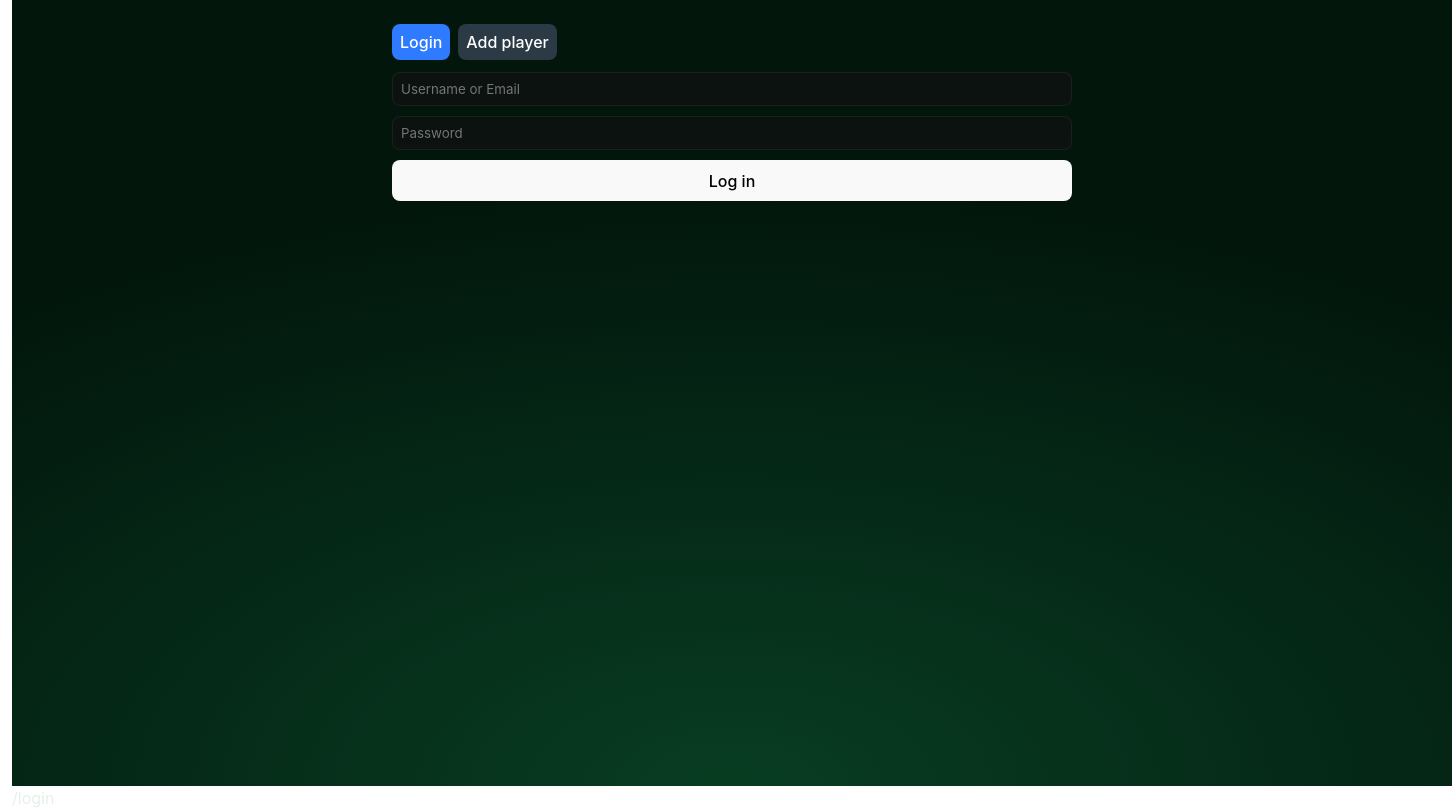
Test case: Login › shows a failed signup inline
The image size is (1452, 810).
Click the button "Add player" at coordinates (508, 42), box [458, 24, 557, 60]
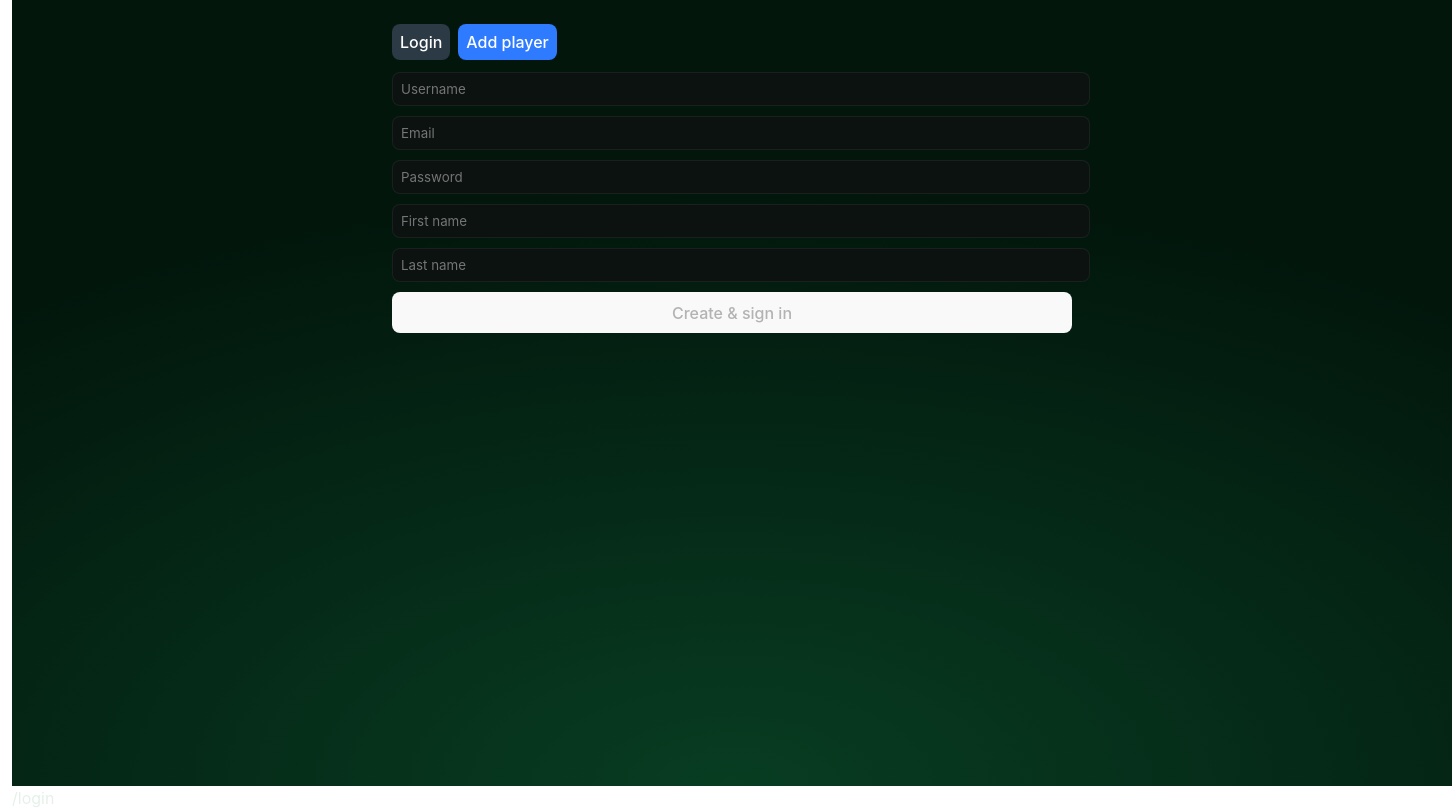
Type "newbie" into the field with placeholder "Username" at coordinates (741, 89), box [392, 72, 1090, 106]
Type "n@example.com" into the field with placeholder "Email" at coordinates (741, 133), box [392, 116, 1090, 150]
Type "secret1" into the password field with placeholder "Password" at coordinates (741, 177), box [392, 160, 1090, 194]
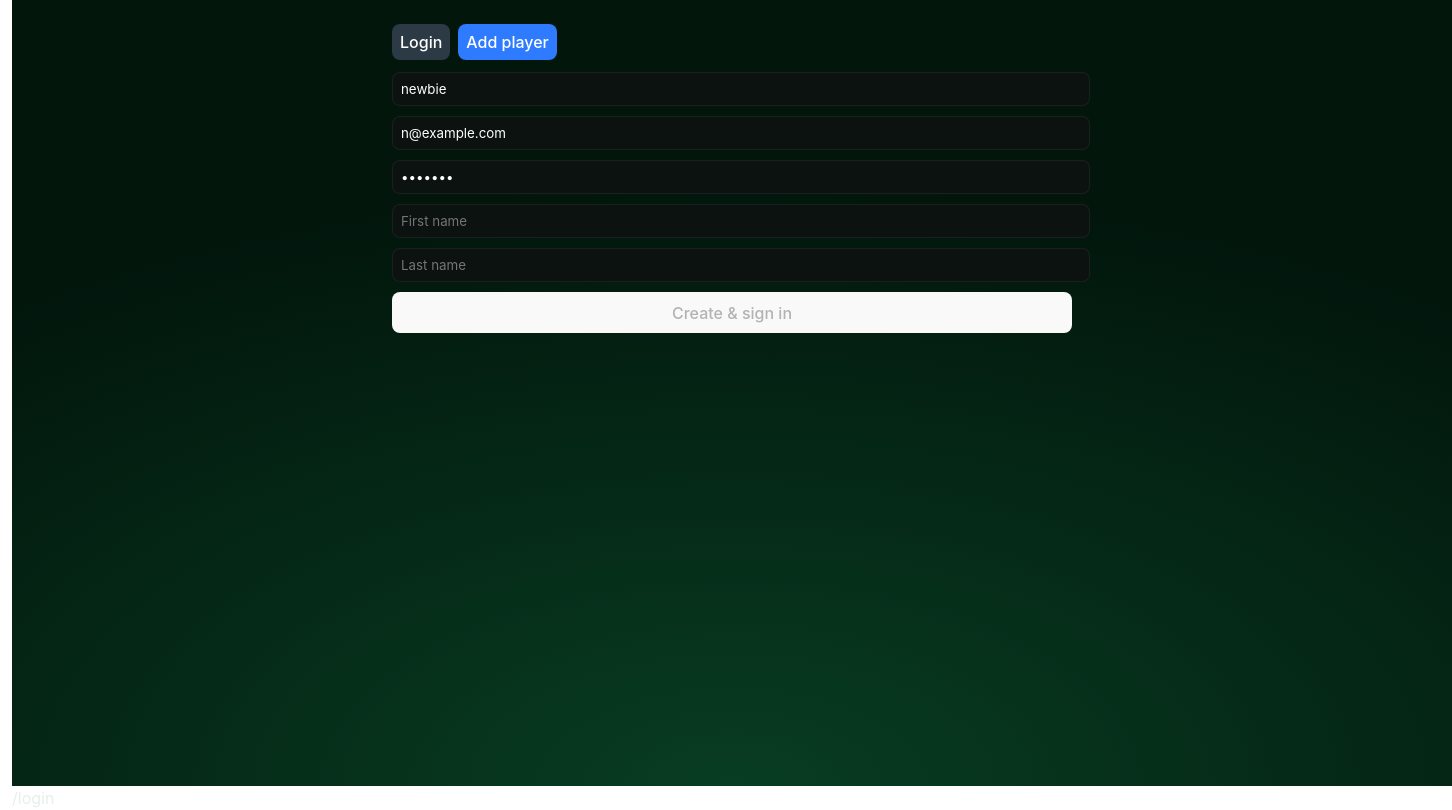
Type "New" into the field with placeholder "First name" at coordinates (741, 221), box [392, 204, 1090, 238]
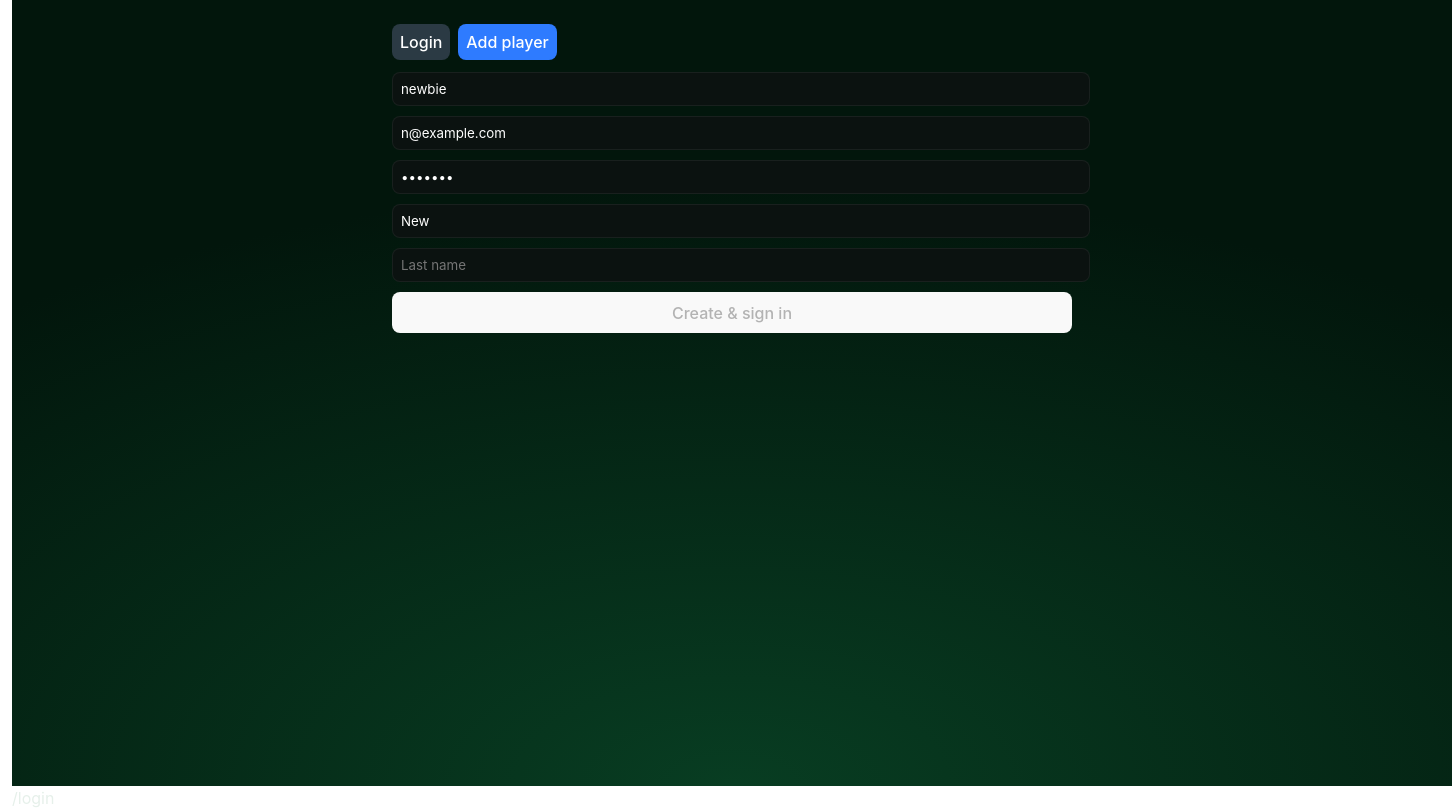
Type "Bie" into the field with placeholder "Last name" at coordinates (741, 265), box [392, 248, 1090, 282]
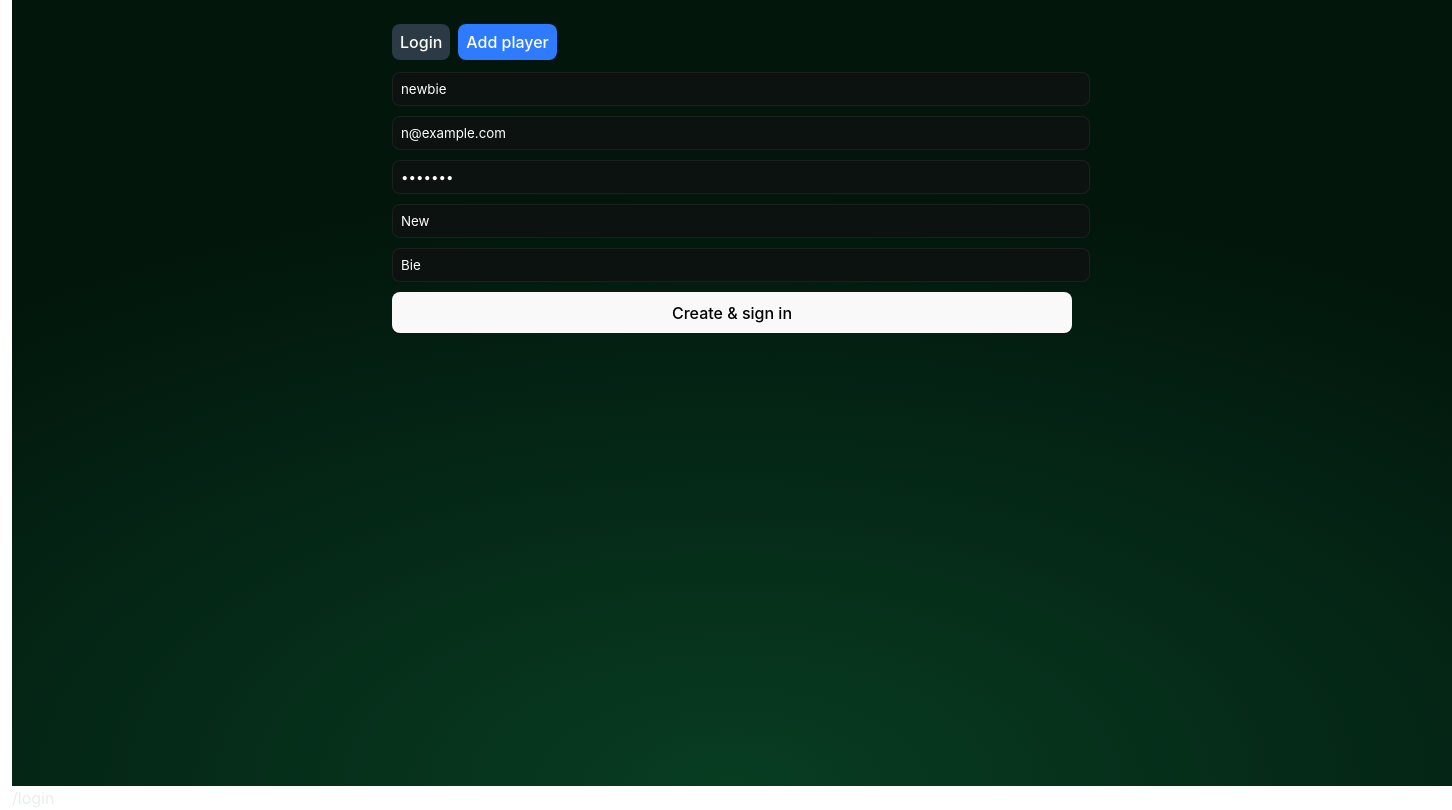
Submit the form, box [392, 72, 1072, 333]
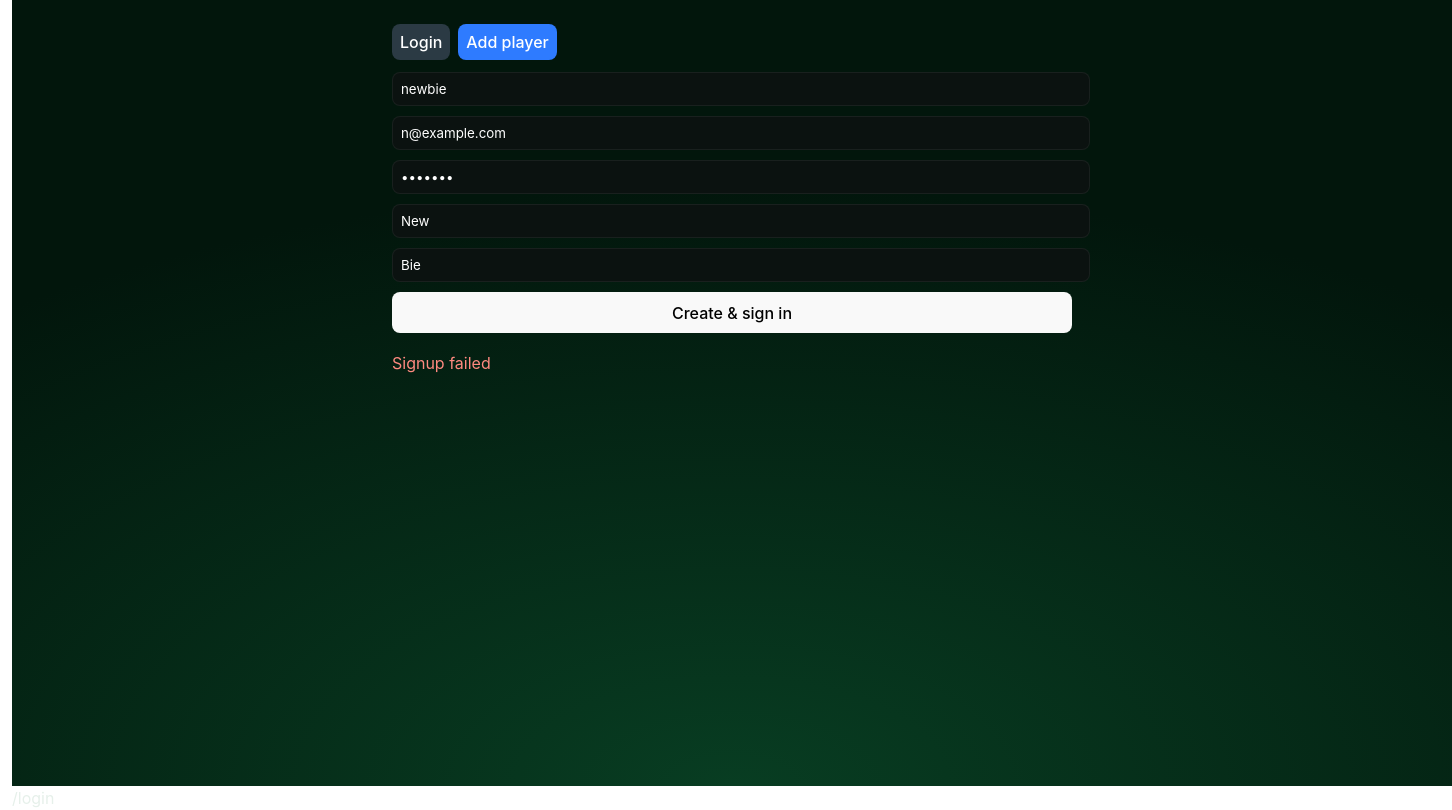
Expected: the message reads "Signup failed", [392, 353, 491, 373]
Click the button "Login" at coordinates (421, 42), box [392, 24, 450, 60]
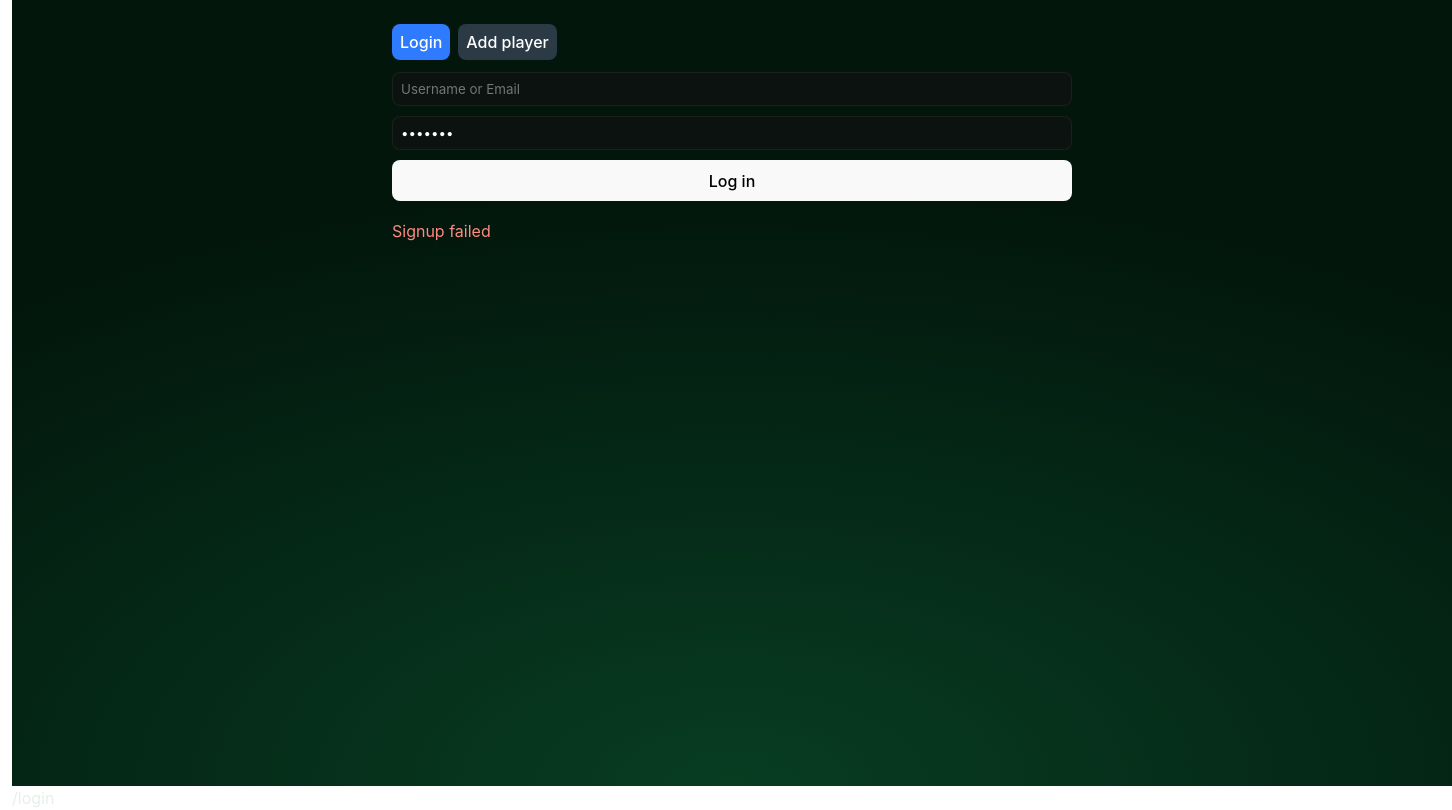
Expected: the field with placeholder "Username or Email" is shown, [392, 72, 1072, 106]
